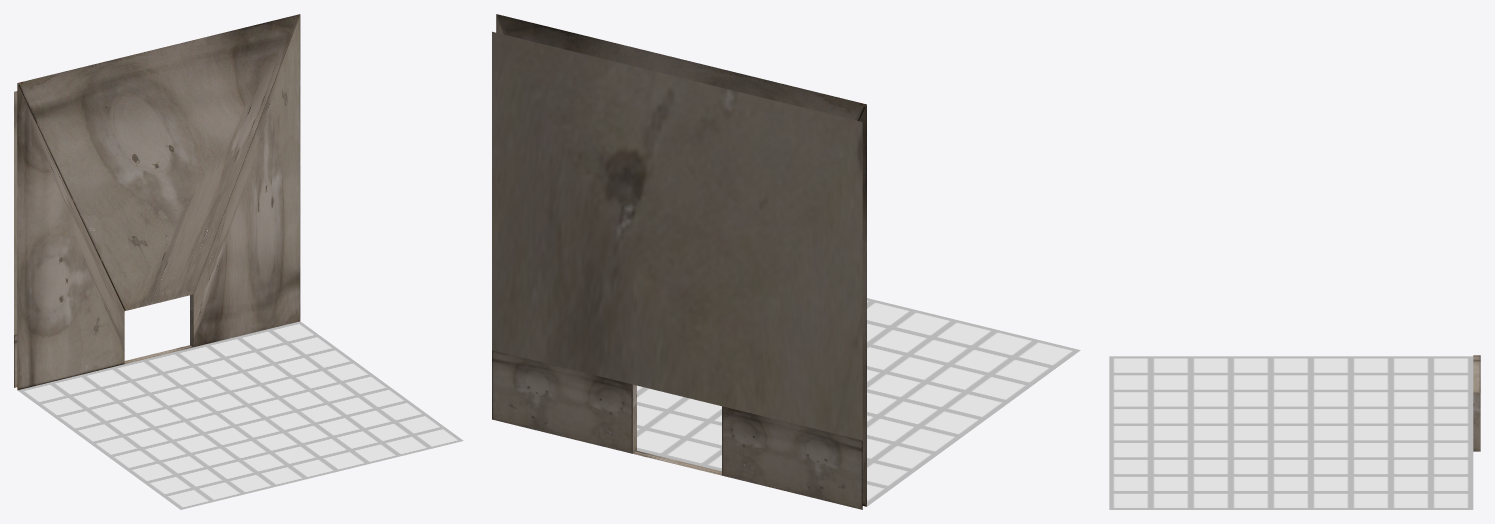
File: room_grid_floor.fbx
The picture shows the model from 3 angles, left to right: view 1: azimuth 30°, elevation 25°; view 2: azimuth 150°, elevation 25°; view 3: azimuth 270°, elevation 25°; orthographic projection. The views are drawn at different scales.
Parts seen in each view (by area): view 1: polySurface684; view 2: polySurface684; view 3: polySurface684.
Boxes of the visible parts, x1,y1,x2,y2 form: polySurface684: (14,14,463,509); polySurface684: (492,14,1080,509); polySurface684: (1109,355,1480,509).
Size of the model in its own units: 10 by 10.38 by 10.2.
